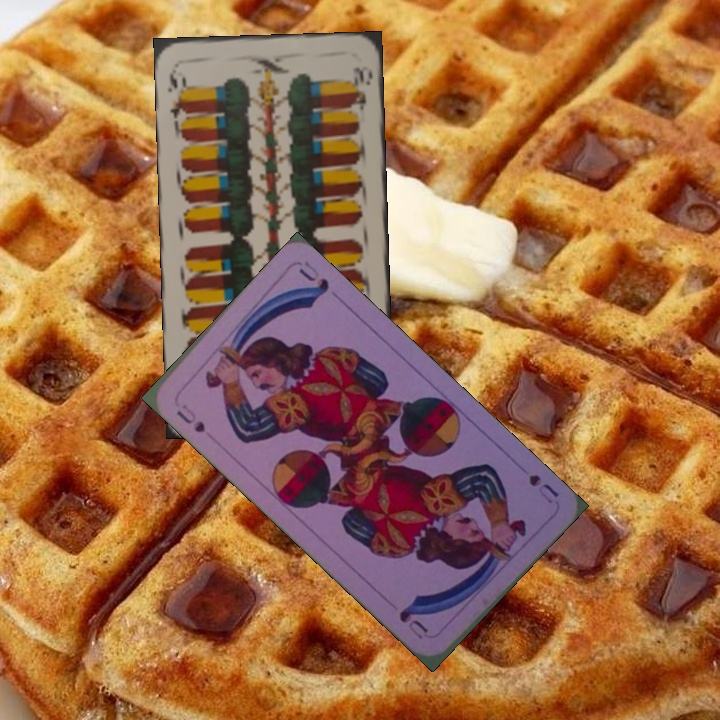E10: (164, 65, 190, 122)
SU: (172, 399, 209, 436), (525, 470, 561, 507)
